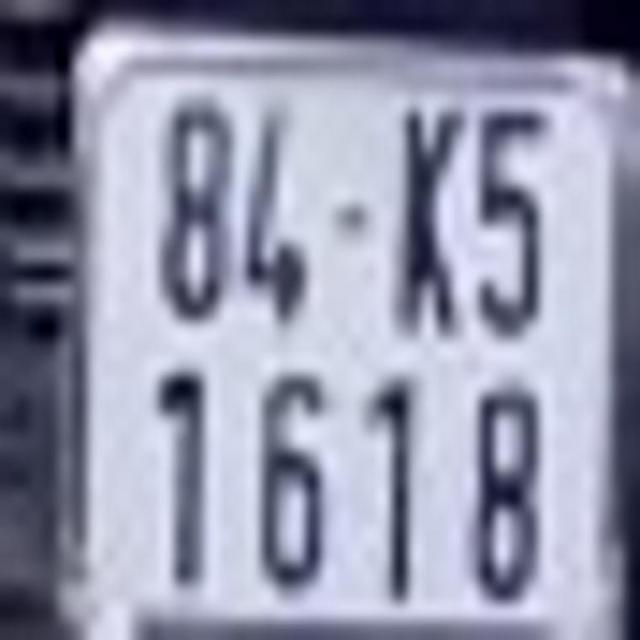1: (367, 377, 414, 601), (160, 373, 204, 578)
4: (249, 129, 303, 314)
5: (478, 110, 542, 342)
6: (256, 373, 324, 586)
8: (167, 100, 229, 324), (481, 391, 542, 600)
K: (401, 107, 459, 340)
